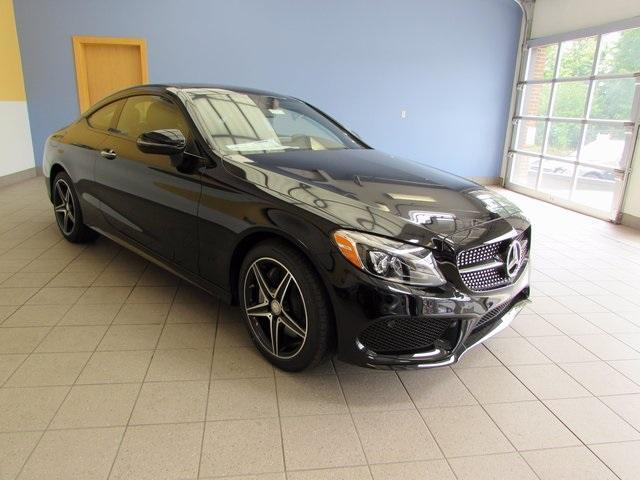C300Coupe: (36, 70, 546, 380)
